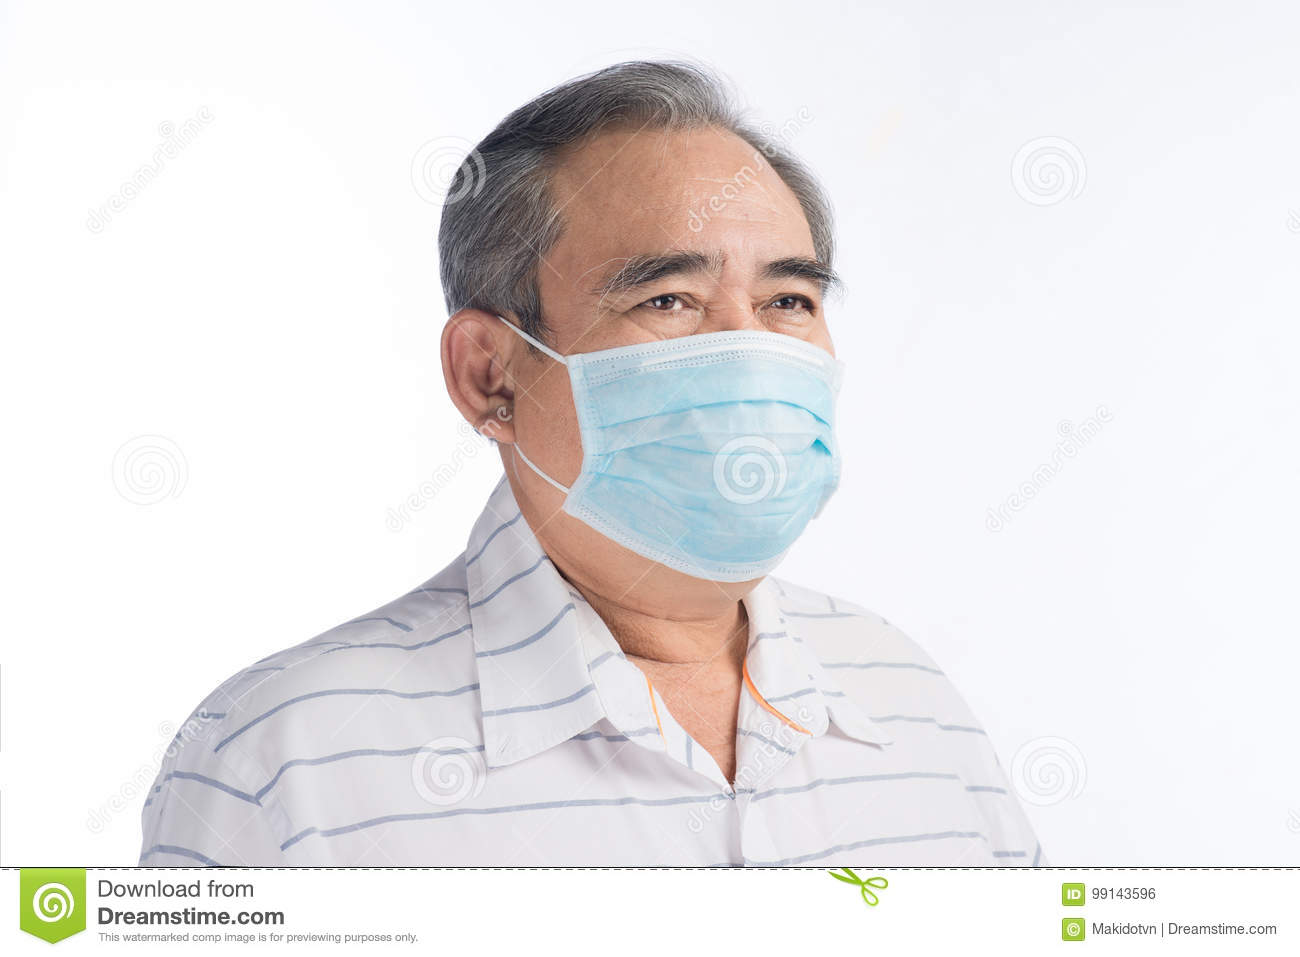mask: (567, 327, 846, 592)
